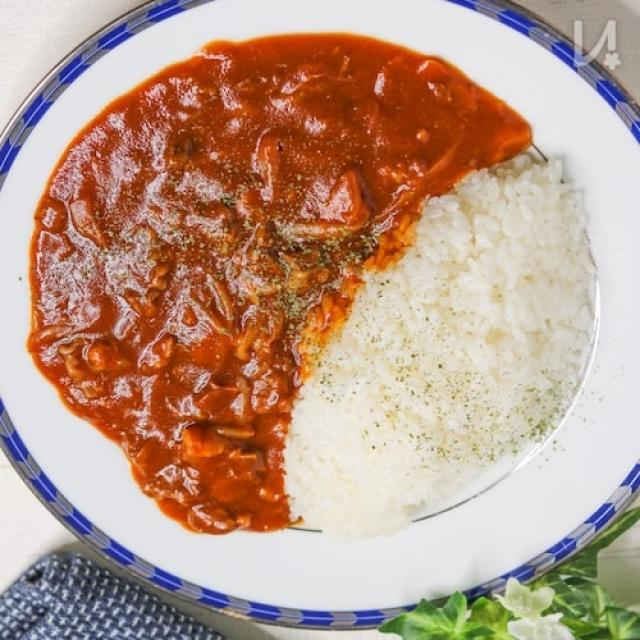Wet: (33, 31, 600, 539)
